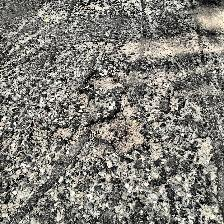pothole: (84, 104, 144, 154), (84, 74, 122, 92), (51, 126, 73, 138)
